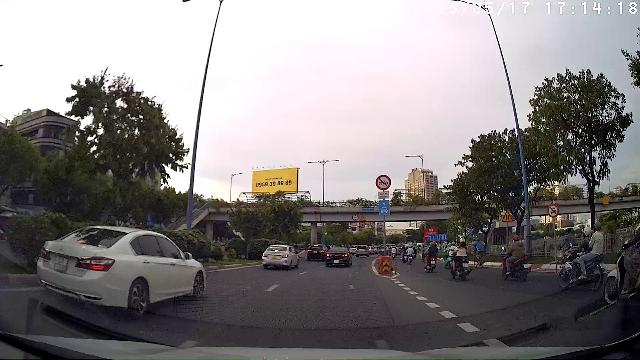103a-cam-oto: (547, 203, 559, 217)
